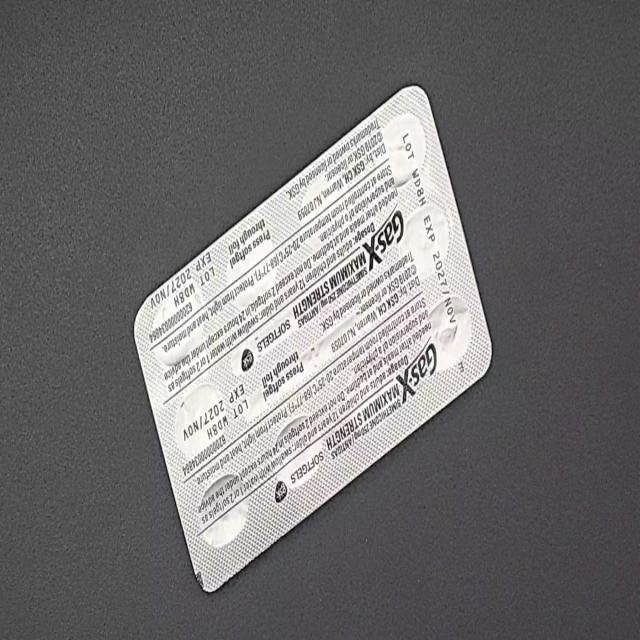no defect: (7, 19, 30, 62)
